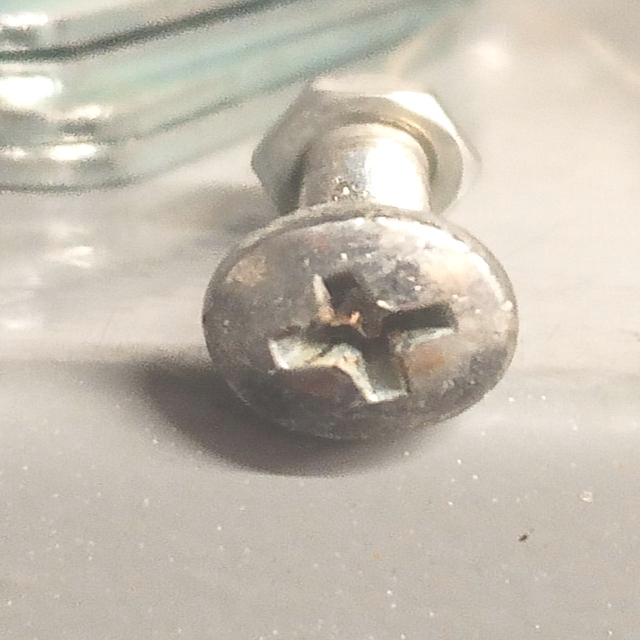phillips: (201, 212, 520, 442)
